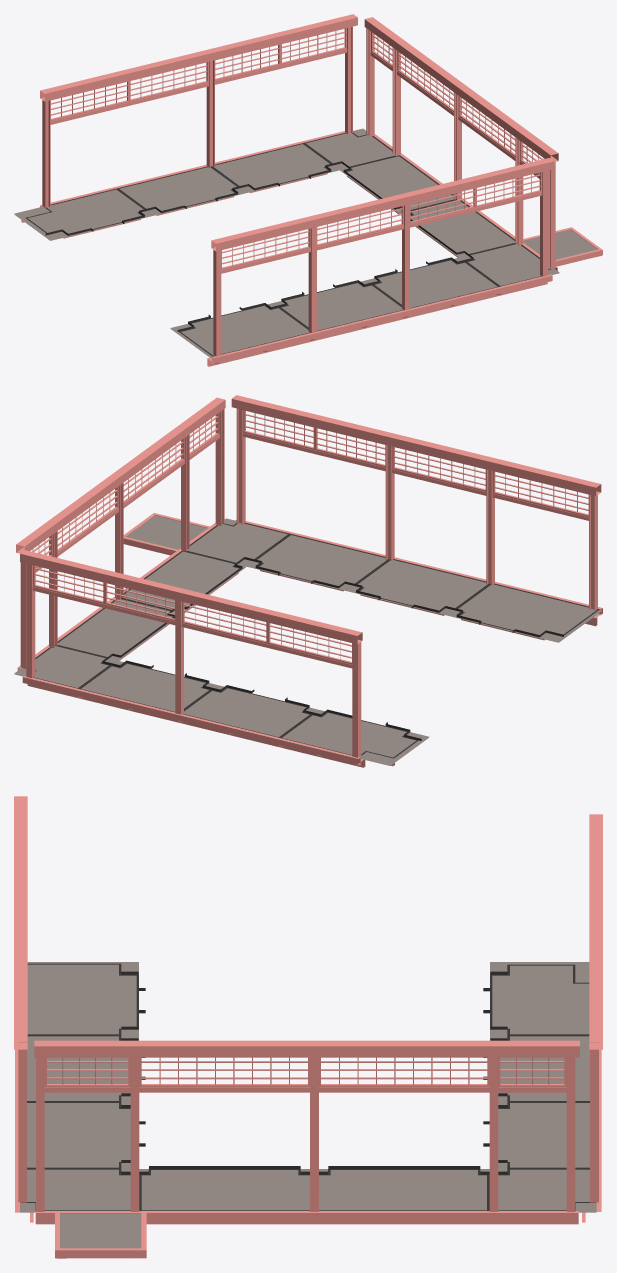
File: SM_H_Building_Tide_Jail_A_03h_ATLAS.fbx
3 renders of one model, top to bottom at view 1: azimuth 30°, elevation 25°; view 2: azimuth 150°, elevation 25°; view 3: azimuth 270°, elevation 25°, orthographic. The views are drawn at different scales.
Visible parts, largest first — view 1: SM_H_Building_Tide_Jail_A_03h_ATLAS; view 2: SM_H_Building_Tide_Jail_A_03h_ATLAS; view 3: SM_H_Building_Tide_Jail_A_03h_ATLAS.
Boxes of the visible parts, box(x1,y1,x2,y2) form: SM_H_Building_Tide_Jail_A_03h_ATLAS: box(14, 14, 602, 366); SM_H_Building_Tide_Jail_A_03h_ATLAS: box(14, 395, 602, 767); SM_H_Building_Tide_Jail_A_03h_ATLAS: box(14, 796, 602, 1258).
Size of the model in its own units: 2358 by 2032 by 706.
